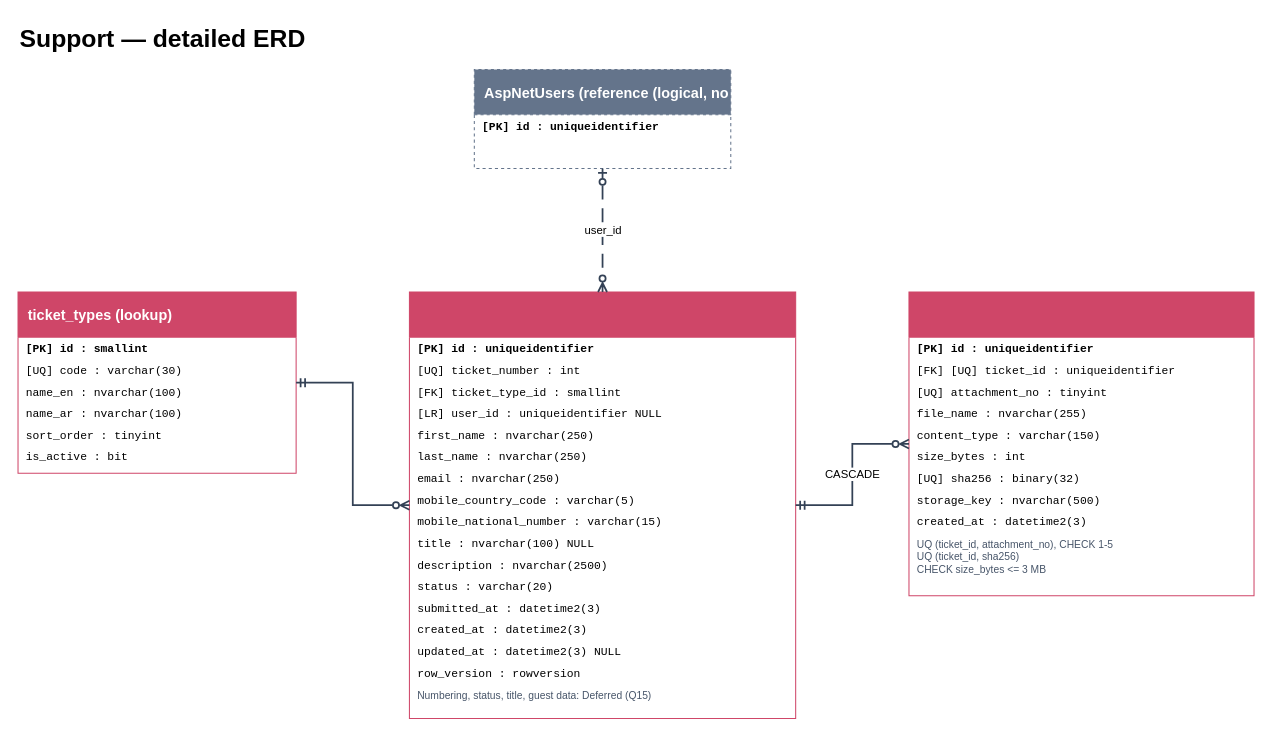
The diagram is 1272 pixels wide and 736 high, and some of its shapes have lost their labels. The shapes that lost their labels are listed below. From the top down, each one's box as (x1, y1, x2, y2) in pixels, then its label:
(908, 291, 1254, 596): ticket_attachments
(408, 291, 796, 718): support_tickets (details deferred)
